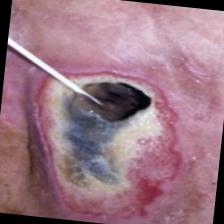pressure-wound: (10, 57, 202, 224)
